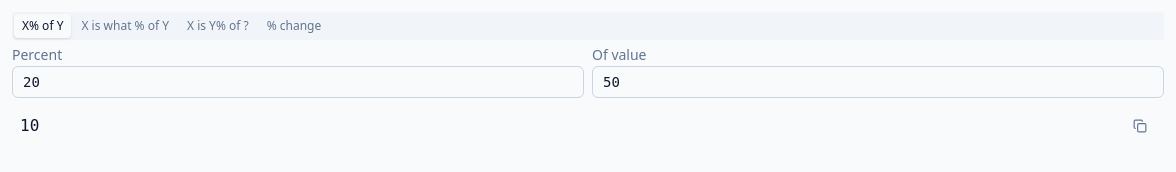
PercentageCalculatorWidget › computes percent change, including a negative change
The width and height of the screenshot is (1176, 172).
Click the button "% change" at (294,26), box [259,14,329,38]
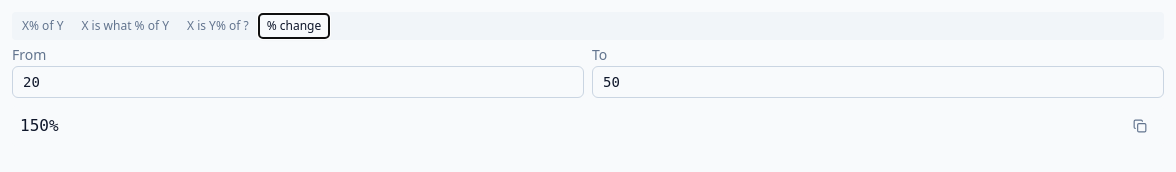
Replace the text in the number field labelled "From" with "80" at (298,82), box [12,66,584,98]
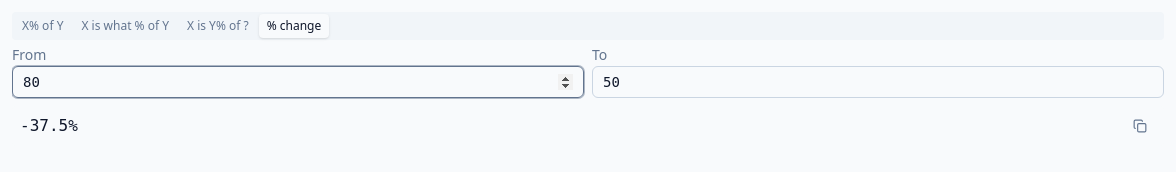
Replace the text in the number field labelled "To" with "60" at (878,82), box [592,66,1164,98]
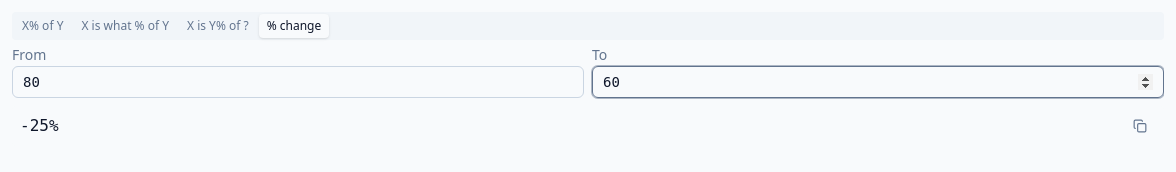
expect the text "-25%" is shown: met, box [20,114,58,138]
